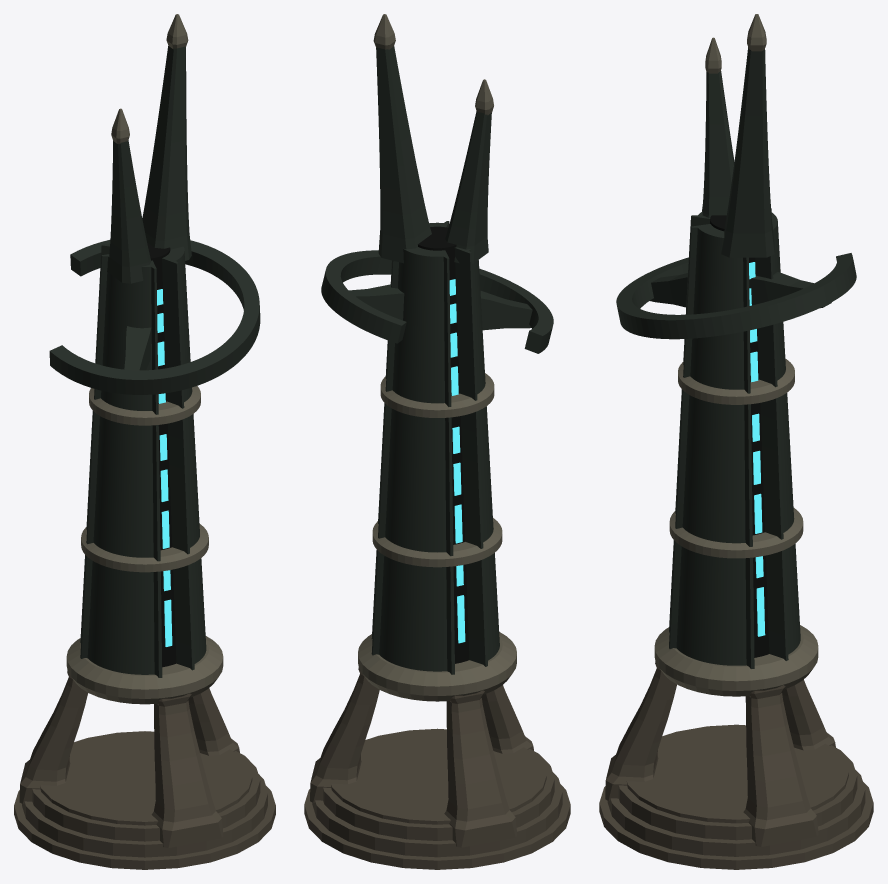
The model's file is SM_Pylon_Resonance.glb.
The picture shows the model from 3 angles, left to right: view 1: azimuth 30°, elevation 25°; view 2: azimuth 150°, elevation 25°; view 3: azimuth 270°, elevation 25°; orthographic projection. The views are drawn at different scales.
Visible parts, largest first — view 1: SM_Pylon_Shaft, SM_Pylon_Plinth, SM_Pylon_Ring, SM_Pylon_Leg_C, SM_Pylon_Crown_Tall, SM_Pylon_Collar, SM_Pylon_Crown_Short, SM_Pylon_Leg_B, SM_Pylon_ShaftCore, SM_Pylon_Belt_0, SM_Pylon_Leg_A, SM_Pylon_Belt_1 (+3 smaller); view 2: SM_Pylon_Shaft, SM_Pylon_Plinth, SM_Pylon_Leg_B, SM_Pylon_Crown_Tall, SM_Pylon_Ring, SM_Pylon_Collar, SM_Pylon_Crown_Short, SM_Pylon_Leg_A, SM_Pylon_ShaftCore, SM_Pylon_Belt_0, SM_Pylon_Belt_1, SM_Pylon_Leg_C (+4 smaller); view 3: SM_Pylon_Shaft, SM_Pylon_Plinth, SM_Pylon_Leg_A, SM_Pylon_Ring, SM_Pylon_Crown_Tall, SM_Pylon_Collar, SM_Pylon_Leg_C, SM_Pylon_Crown_Short, SM_Pylon_Belt_0, SM_Pylon_ShaftCore, SM_Pylon_Belt_1, SM_Pylon_Leg_B (+4 smaller).
Part boxes in pixels (box(x1,y1,x2,y2)): SM_Pylon_Shaft: box(80, 242, 206, 677); SM_Pylon_Plinth: box(14, 731, 275, 869); SM_Pylon_Ring: box(49, 240, 260, 394); SM_Pylon_Leg_C: box(151, 693, 223, 847); SM_Pylon_Crown_Tall: box(142, 46, 191, 260); SM_Pylon_Collar: box(66, 636, 223, 704); SM_Pylon_Crown_Short: box(107, 140, 151, 283); SM_Pylon_Leg_B: box(19, 670, 87, 803); SM_Pylon_ShaftCore: box(147, 242, 176, 667); SM_Pylon_Belt_0: box(81, 524, 208, 572); SM_Pylon_Leg_A: box(188, 688, 239, 755); SM_Pylon_Belt_1: box(89, 386, 200, 425); SM_Pylon_Shaft: box(371, 221, 499, 674); SM_Pylon_Plinth: box(304, 728, 570, 869); SM_Pylon_Leg_B: box(444, 690, 517, 847); SM_Pylon_Crown_Tall: box(376, 46, 431, 263); SM_Pylon_Ring: box(321, 250, 553, 353); SM_Pylon_Collar: box(358, 632, 516, 701); SM_Pylon_Crown_Short: box(445, 111, 491, 263); SM_Pylon_Leg_A: box(310, 667, 379, 802); SM_Pylon_ShaftCore: box(418, 226, 469, 663); SM_Pylon_Belt_0: box(372, 518, 502, 567); SM_Pylon_Belt_1: box(380, 373, 494, 417); SM_Pylon_Leg_C: box(481, 685, 533, 753); SM_Pylon_Shaft: box(669, 208, 800, 668); SM_Pylon_Plinth: box(599, 724, 873, 869); SM_Pylon_Leg_A: box(743, 685, 818, 846); SM_Pylon_Ring: box(616, 253, 856, 339); SM_Pylon_Crown_Tall: box(721, 47, 774, 257); SM_Pylon_Collar: box(654, 625, 818, 696); SM_Pylon_Leg_C: box(605, 661, 676, 800); SM_Pylon_Crown_Short: box(702, 71, 734, 217); SM_Pylon_Belt_0: box(669, 508, 803, 558); SM_Pylon_ShaftCore: box(710, 215, 769, 657); SM_Pylon_Belt_1: box(678, 358, 794, 404); SM_Pylon_Leg_B: box(782, 679, 835, 750).
Bounding box in the file's own units: 10.6 × 34.94 × 10.6.
